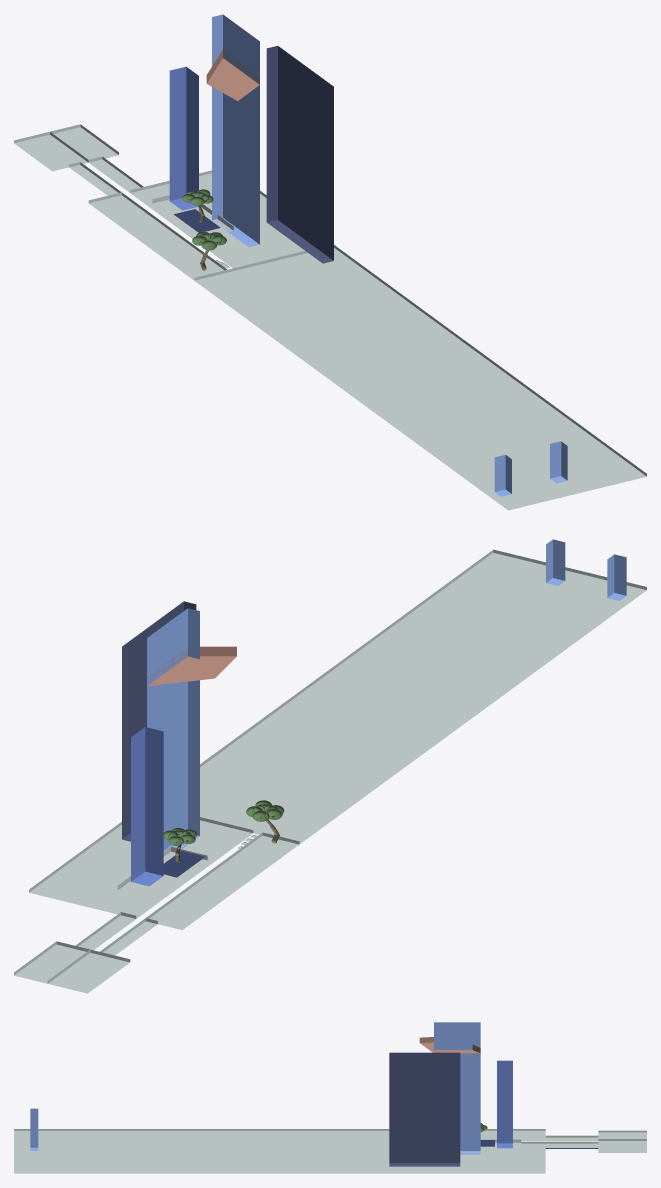
The model's file is storm_terrace_blockout.glb.
The picture shows the model from 3 angles, top to bottom: view 1: azimuth 30°, elevation 25°; view 2: azimuth 150°, elevation 25°; view 3: azimuth 270°, elevation 25°; orthographic projection. The views are drawn at different scales.
Parts seen in each view (by area): view 1: deck_south, starfield_monolith, glass_monolith, tower, deck_west, deck_east, lightning_platform, lintel, plinth, walkway_east, south_gate_east, south_gate_west; view 2: deck_south, glass_monolith, deck_east, tower, deck_west, starfield_monolith, lightning_platform, lintel, plinth, walkway_east, south_gate_east, south_gate_west (+1 smaller); view 3: deck_south, starfield_monolith, glass_monolith, deck_east, tower, lightning_platform, deck_west, walkway_east, plinth, lintel, walkway_west, lightning_platform_rim.
Part boxes in pixels (box(x1,y1,x2,y2)): deck_south: box(194, 245, 646, 510); starfield_monolith: box(266, 45, 333, 263); glass_monolith: box(212, 14, 259, 247); tower: box(169, 66, 198, 210); deck_west: box(88, 192, 226, 280); deck_east: box(130, 170, 304, 268); lightning_platform: box(14, 124, 118, 171); lintel: box(206, 50, 259, 100); plinth: box(152, 195, 233, 235); walkway_east: box(88, 156, 143, 192); south_gate_east: box(550, 441, 567, 483); south_gate_west: box(494, 454, 511, 496); deck_south: box(200, 549, 646, 843); glass_monolith: box(147, 608, 199, 851); deck_east: box(29, 817, 253, 918); tower: box(131, 727, 163, 886); deck_west: box(146, 832, 299, 930); starfield_monolith: box(122, 601, 196, 841); lightning_platform: box(14, 941, 130, 993); lintel: box(147, 646, 236, 686); plinth: box(117, 847, 207, 899); walkway_east: box(75, 912, 136, 950); south_gate_east: box(546, 539, 565, 585); south_gate_west: box(607, 554, 626, 600); deck_south: box(14, 1129, 411, 1173); starfield_monolith: box(389, 1052, 460, 1166); glass_monolith: box(434, 1022, 480, 1154); deck_east: box(411, 1141, 545, 1173); tower: box(497, 1060, 512, 1148); lightning_platform: box(598, 1130, 646, 1152); deck_west: box(480, 1129, 545, 1140); walkway_east: box(545, 1141, 598, 1147); plinth: box(460, 1139, 521, 1152); lintel: box(419, 1037, 480, 1053); walkway_west: box(545, 1135, 598, 1140); lightning_platform_rim: box(598, 1139, 646, 1143).
Size of what is drawn, in the model's own units: 50 by 74 by 312.
